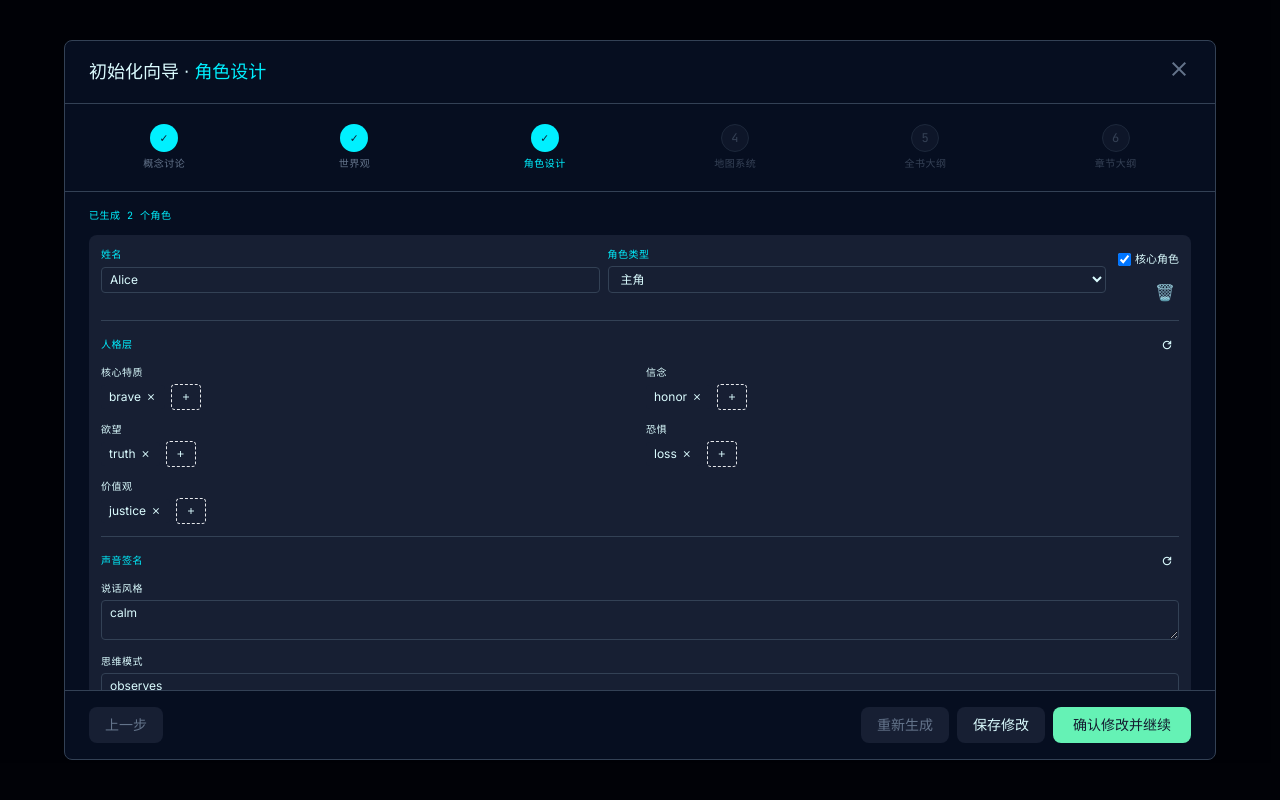
Test: CharacterStep inline-edit (no edit-mode toggle) › changing a personality tag via TagEditor updates local state
Click the button "honor": (671, 396) [654, 388, 687, 404]
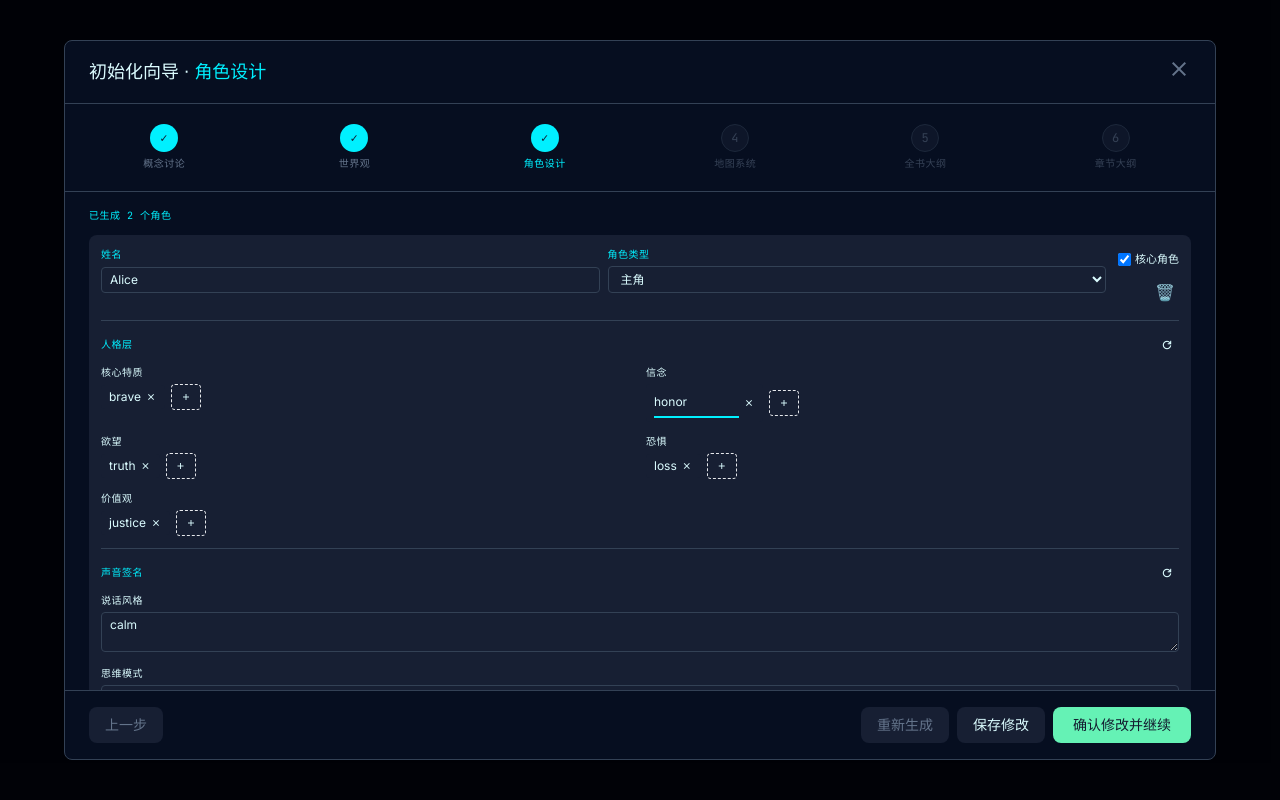
# TagEditor swaps the button for an input pre-filled with "honor".
Replace the text in the field showing "honor" below "信念" with "honesty": (696, 402) [654, 388, 739, 418]
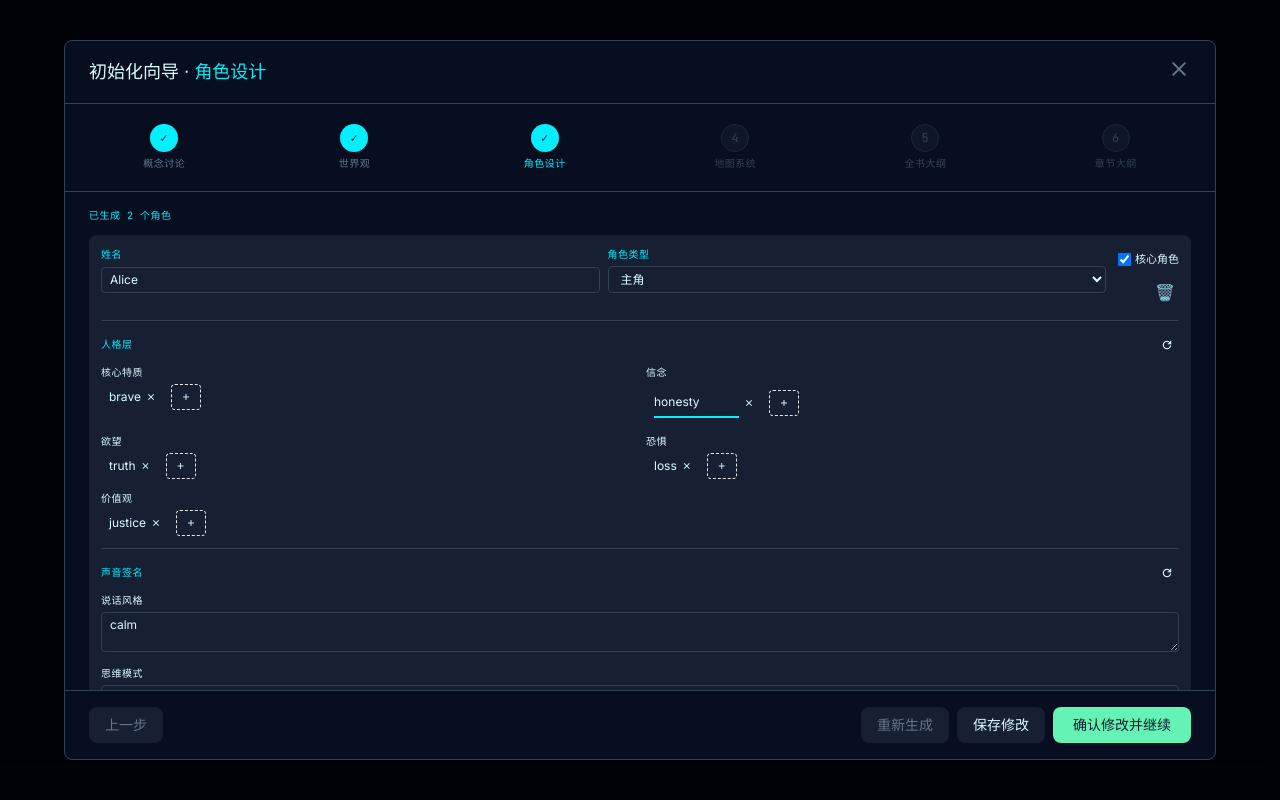
# Save by pressing Enter (TagEditor saves on Enter).
Press Enter in the field showing "honor" below "信念", box [654, 388, 739, 418]
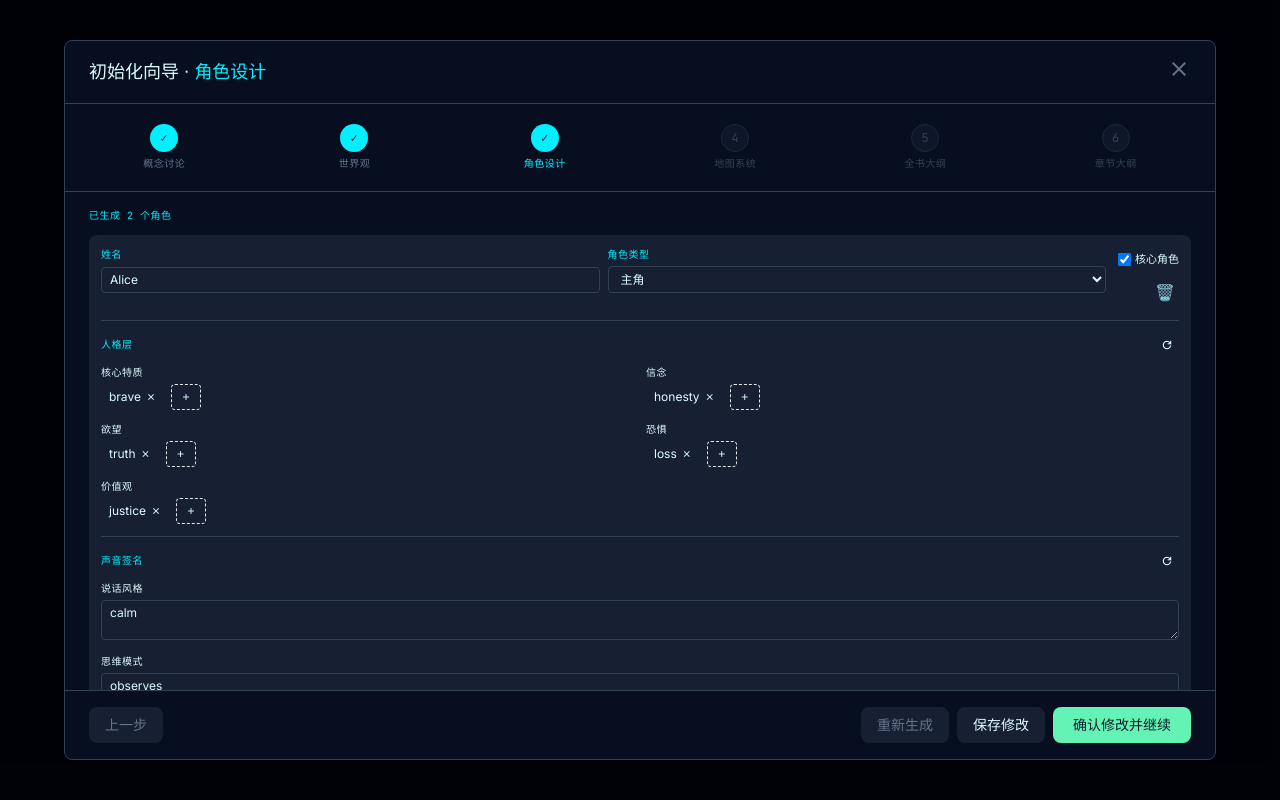
Check: the button "honesty" is shown, box [654, 388, 700, 404]
